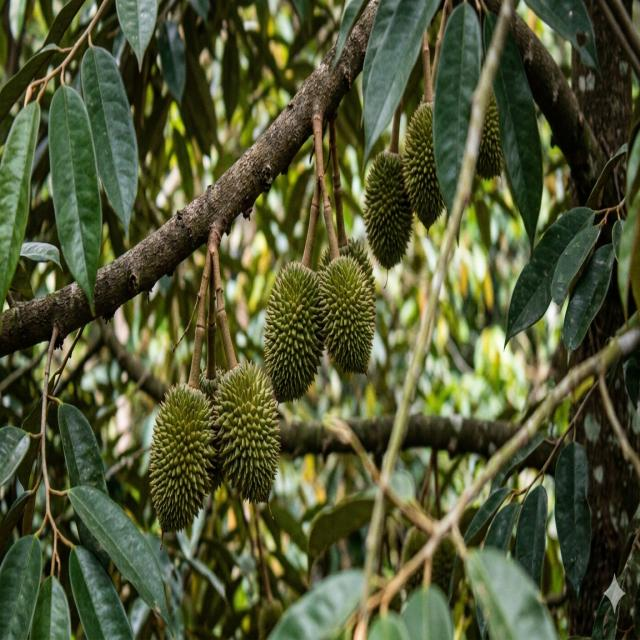immature: (148, 381, 217, 532), (212, 359, 282, 506), (262, 260, 324, 401), (316, 251, 377, 377), (362, 151, 413, 268), (402, 101, 445, 230), (474, 93, 504, 181), (429, 534, 463, 600), (401, 527, 431, 596), (336, 236, 372, 274), (257, 597, 284, 639), (199, 368, 222, 404), (318, 243, 335, 270)
